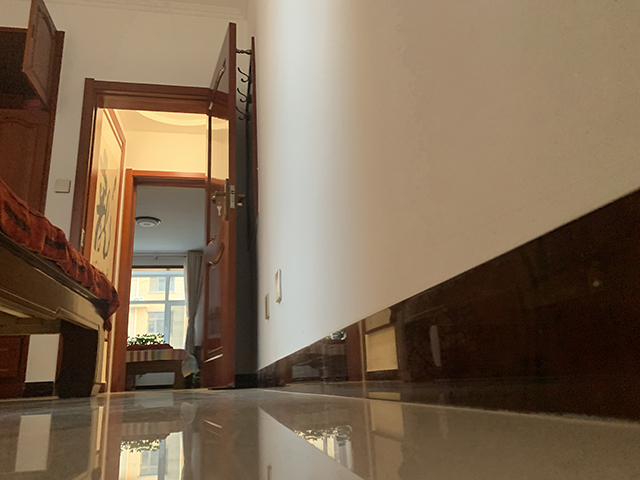bed: (1, 177, 120, 398), (126, 344, 199, 390)
